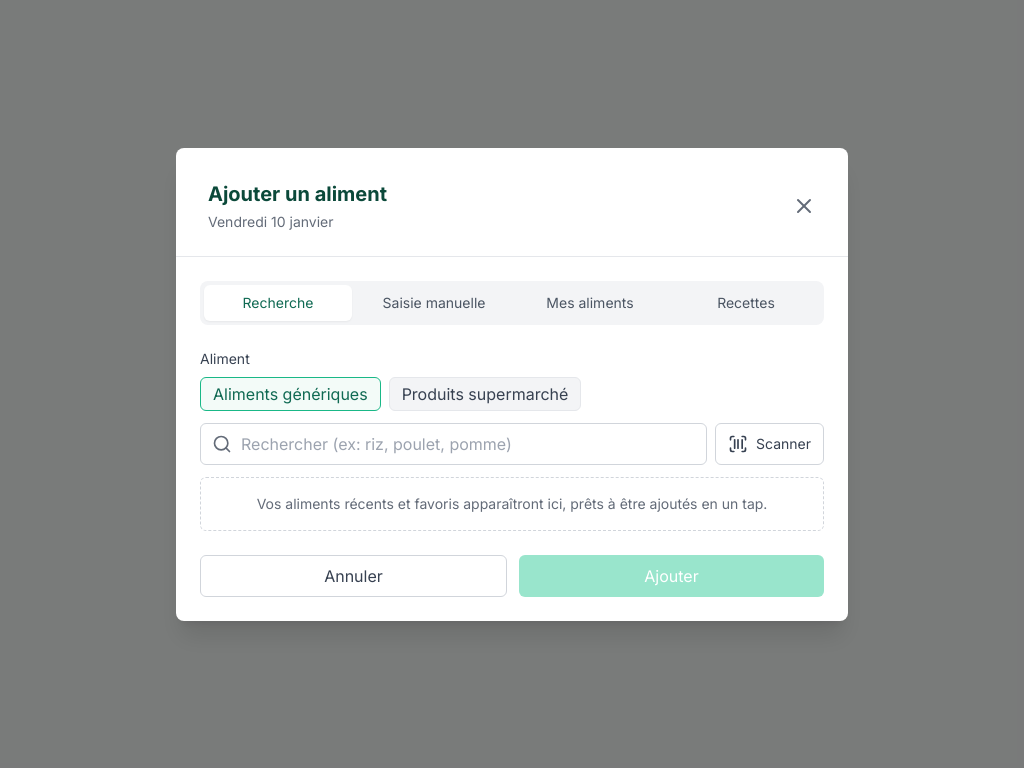
Test: AddEntryModal › propose les repas visibles avec leurs noms personnalisés
Click the tab "Saisie manuelle" at {"x": 434, "y": 302}, box [360,284,508,320]
(page scrolled)
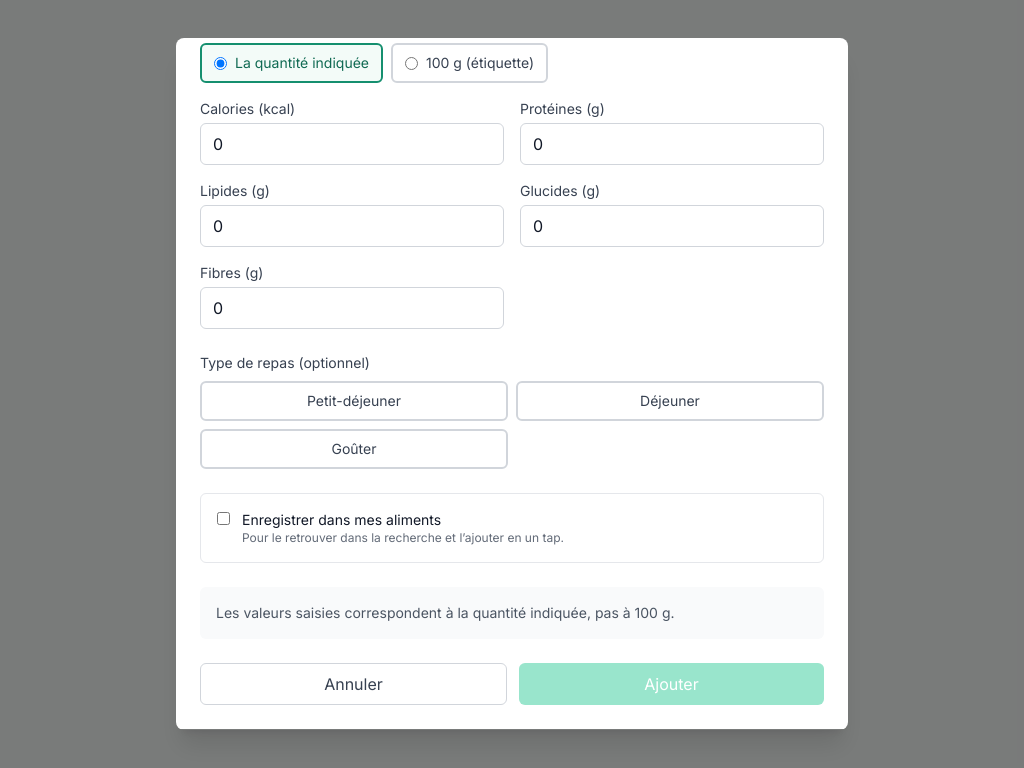
expect the button "Goûter" is shown: met, box [200,429,508,469]
expect the button "Petit-déjeuner" is shown: met, box [200,381,508,421]
